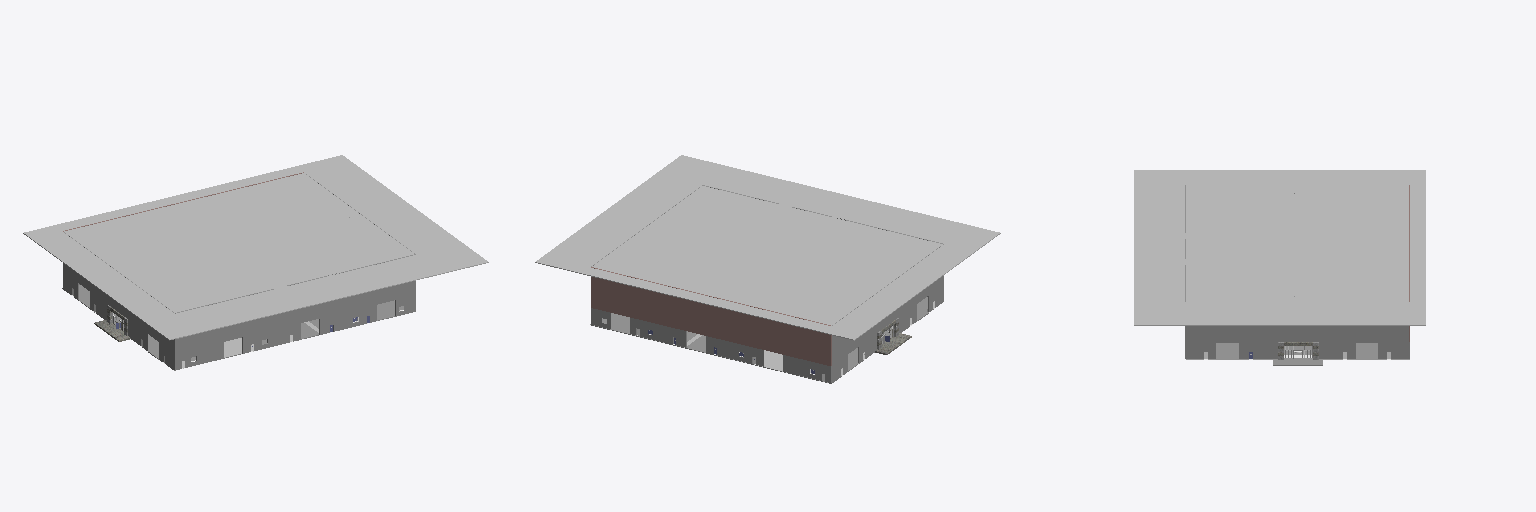
3 renders of one model, left to right at view 1: azimuth 30°, elevation 25°; view 2: azimuth 150°, elevation 25°; view 3: azimuth 270°, elevation 25°, orthographic.
Parts seen in each view (by area): view 1: Cube.001, wall_right, 80meter_X_15heights.2, floor.001_floor.002; view 2: Cube.001, Extrude.1_226, wall_left, 80meter_X_15heights.2, floor.001_floor.002; view 3: Cube.001, 80meter_X_15heights, floor.001_floor.002.
Boxes of the visible parts, box(x1,y1,x2,y2) form: Cube.001: box(23, 155, 488, 340); wall_right: box(175, 254, 415, 370); 80meter_X_15heights.2: box(63, 232, 174, 369); floor.001_floor.002: box(62, 285, 403, 370); Cube.001: box(535, 155, 1000, 340); Extrude.1_226: box(591, 267, 831, 365); wall_left: box(591, 308, 831, 382); 80meter_X_15heights.2: box(832, 244, 943, 382); floor.001_floor.002: box(590, 297, 942, 383); Cube.001: box(1134, 170, 1425, 325); 80meter_X_15heights: box(1185, 326, 1408, 358); floor.001_floor.002: box(1186, 343, 1409, 359).
Bounding box in the file's own units: 9988 × 2961 × 7928.
18 materials, 4 textured.